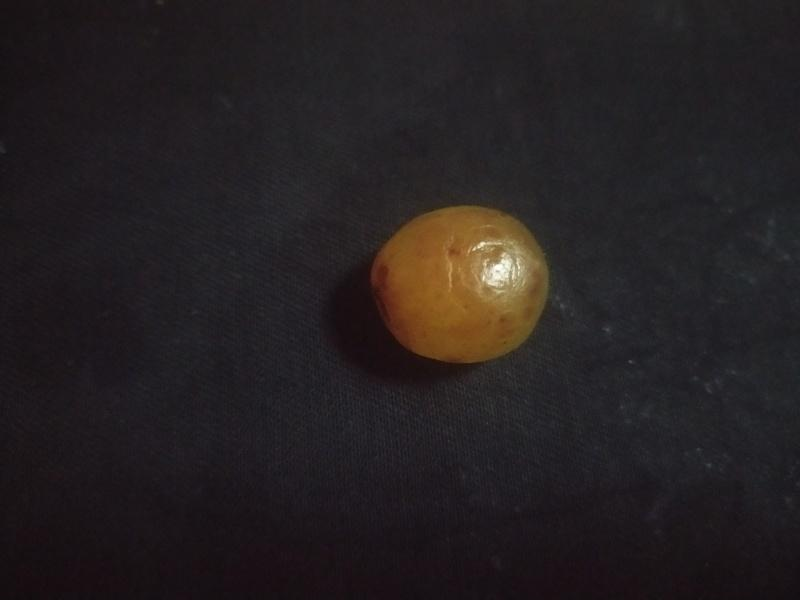Grape Rotten: (374, 203, 552, 365)
